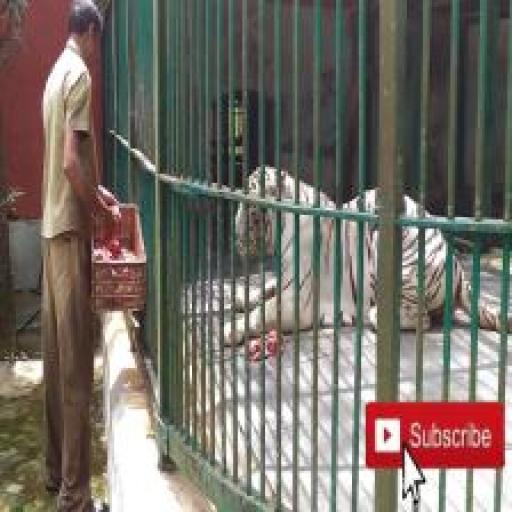Tiger: (221, 164, 512, 348)
